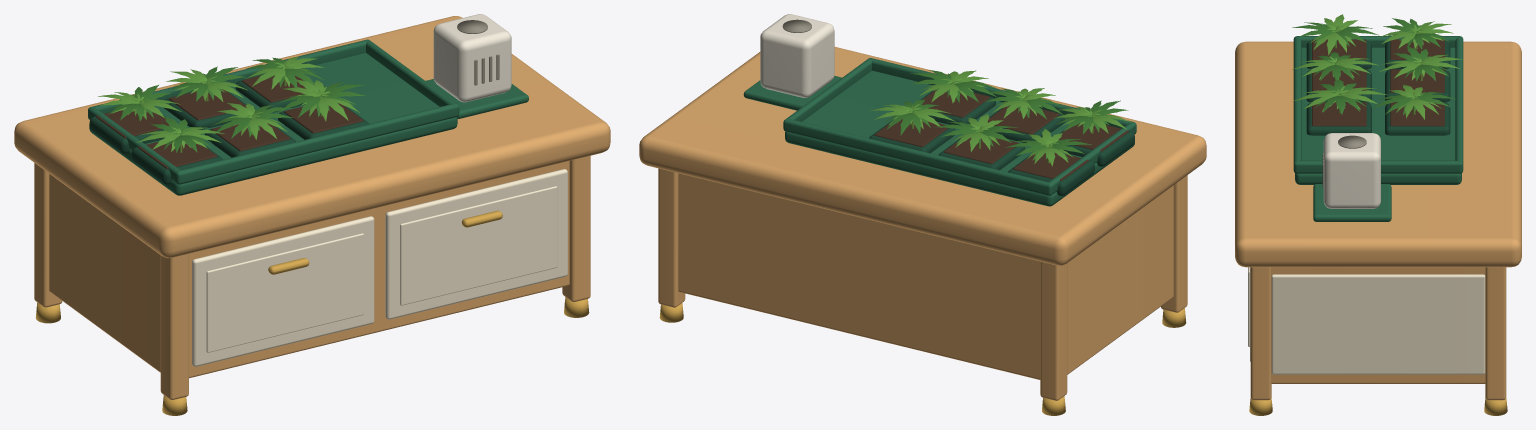
The model's file is seeds_bench_tier2.glb.
3 views of the same model, side by side, from view 1: azimuth 30°, elevation 25°; view 2: azimuth 150°, elevation 25°; view 3: azimuth 270°, elevation 25° (orthographic). The views are drawn at different scales.
Parts seen in each view (by area): view 1: Top, Carcass, DrawerInset0, DrawerInset1, Tray, Drawer1, Drawer0, Humidifier, TrayRim1, Leg-1-1, Leg1-1, Leg-11 (+16 smaller); view 2: Carcass, Top, Tray, Humidifier, TrayRim0, Leg-11, Leg11, Leg-1-1, TrayRim1, TrayRim2, HumidPad, Soil01 (+12 smaller); view 3: Top, EndPanel, Tray, Humidifier, Carcass, Leg1-1, Leg11, HumidPad, TrayRim2, Soil02, TrayRim0, TrayRim1 (+35 smaller).
Boxes of the visible parts, <box> form: Top: <box>14,16,610,258</box>; Carcass: <box>49,161,569,378</box>; DrawerInset0: <box>206,233,363,352</box>; DrawerInset1: <box>400,186,557,305</box>; Tray: <box>89,53,457,195</box>; Drawer1: <box>385,169,567,319</box>; Drawer0: <box>192,216,374,366</box>; Humidifier: <box>433,14,511,102</box>; TrayRim1: <box>175,103,459,184</box>; Leg-1-1: <box>160,254,188,399</box>; Leg1-1: <box>562,156,590,301</box>; Leg-11: <box>34,163,62,307</box>; Carcass: <box>678,173,1173,379</box>; Top: <box>639,47,1206,265</box>; Tray: <box>785,70,1134,206</box>; Humidifier: <box>760,14,834,97</box>; TrayRim0: <box>783,119,1053,195</box>; Leg-11: <box>1040,261,1067,400</box>; Leg11: <box>658,168,685,307</box>; Leg-1-1: <box>1161,175,1187,312</box>; TrayRim1: <box>869,58,1136,133</box>; TrayRim2: <box>786,58,871,121</box>; HumidPad: <box>743,76,841,110</box>; Soil01: <box>987,106,1059,134</box>; Top: <box>1235,41,1521,267</box>; EndPanel: <box>1271,274,1485,374</box>; Tray: <box>1295,47,1461,184</box>; Humidifier: <box>1323,133,1380,208</box>; Carcass: <box>1271,267,1485,383</box>; Leg1-1: <box>1250,267,1271,400</box>; Leg11: <box>1485,267,1506,400</box>; HumidPad: <box>1313,184,1391,221</box>; TrayRim2: <box>1298,160,1458,173</box>; Soil02: <box>1312,102,1366,126</box>; TrayRim0: <box>1455,36,1463,173</box>; TrayRim1: <box>1293,36,1301,173</box>.
Bounding box in the file's own units: 1.85 × 1.03 × 1.1.
